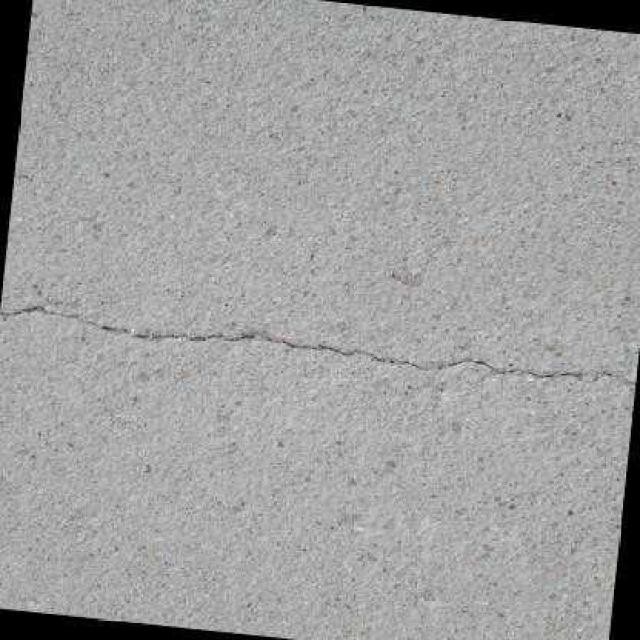D00: (0, 306, 635, 383)
